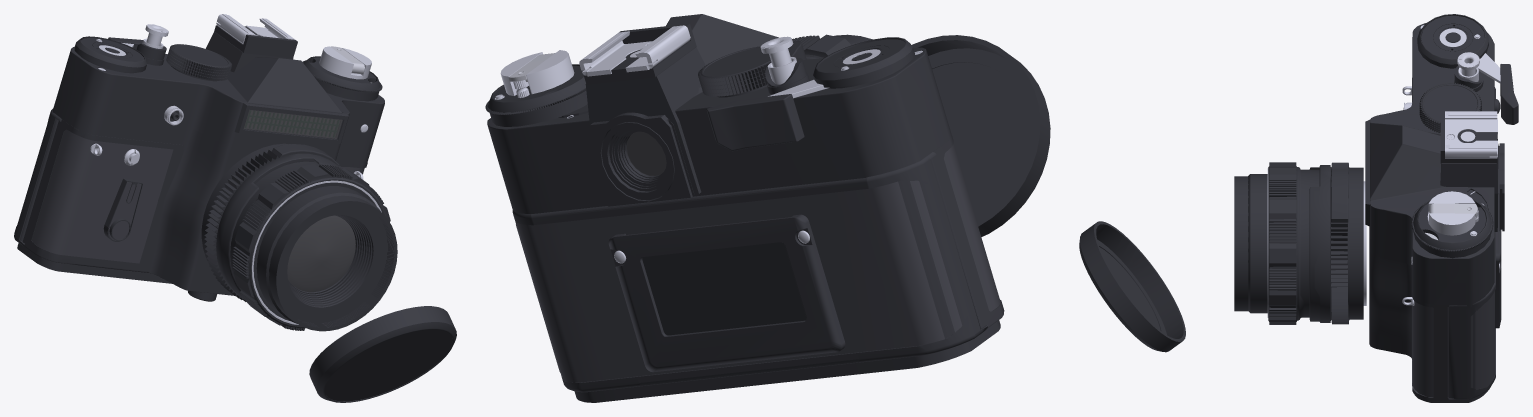
The model's file is ZENFINq.fbx.
3 renders of one model, left to right at view 1: azimuth 30°, elevation 25°; view 2: azimuth 150°, elevation 25°; view 3: azimuth 270°, elevation 25°, orthographic. The views are drawn at different scales.
Visible parts, largest first — view 1: polySurface2001, polySurface1662, polySurface1719, polySurface2210, polySurface1968, polySurface1786, polySurface1777, polySurface2086, polySurface1764, polySurface2205, polySurface1943, polySurface1877 (+22 smaller); view 2: polySurface1675, polySurface2001, polySurface1694, polySurface1719, polySurface2200, polySurface1901, polySurface1720, polySurface2192, polySurface1714, polySurface1679, polySurface2157, polySurface1777 (+12 smaller); view 3: polySurface2001, polySurface1719, polySurface1968, polySurface2205, polySurface2200, polySurface2210, polySurface1852, polySurface1877, polySurface2019, polySurface1897, polySurface1764, polySurface2157 (+24 smaller).
Boxes of the visible parts, x1,y1,x2,y2 form: polySurface2001: (53,46,384,163); polySurface1662: (32,129,173,263); polySurface1719: (309,306,456,402); polySurface2210: (256,186,387,323); polySurface1968: (149,129,336,295); polySurface1786: (235,167,386,328); polySurface1777: (23,119,183,272); polySurface2086: (287,215,355,292); polySurface1764: (269,195,397,331); polySurface2205: (216,153,341,300); polySurface1943: (244,110,342,138); polySurface1877: (233,164,390,325); polySurface1675: (516,180,962,382); polySurface2001: (487,14,951,213); polySurface1694: (608,214,845,372); polySurface1719: (912,35,1050,236); polySurface2200: (512,152,987,392); polySurface1901: (642,242,806,335); polySurface1720: (585,47,705,195); polySurface2192: (574,320,1000,402); polySurface1714: (706,94,804,151); polySurface1679: (587,112,694,206); polySurface2157: (579,25,690,76); polySurface1777: (932,134,1004,327); polySurface2001: (1370,23,1494,307); polySurface1719: (1079,221,1185,352); polySurface1968: (1369,226,1412,359); polySurface2205: (1309,165,1330,322); polySurface2200: (1448,87,1495,399); polySurface2210: (1248,174,1267,313); polySurface1852: (1349,167,1363,319); polySurface1877: (1269,162,1296,324); polySurface2019: (1297,167,1319,320); polySurface1897: (1413,301,1448,397); polySurface1764: (1234,176,1248,311); polySurface2157: (1445,111,1497,158).
Bounding box in the file's own units: 9.32 × 7.42 × 10.41.
